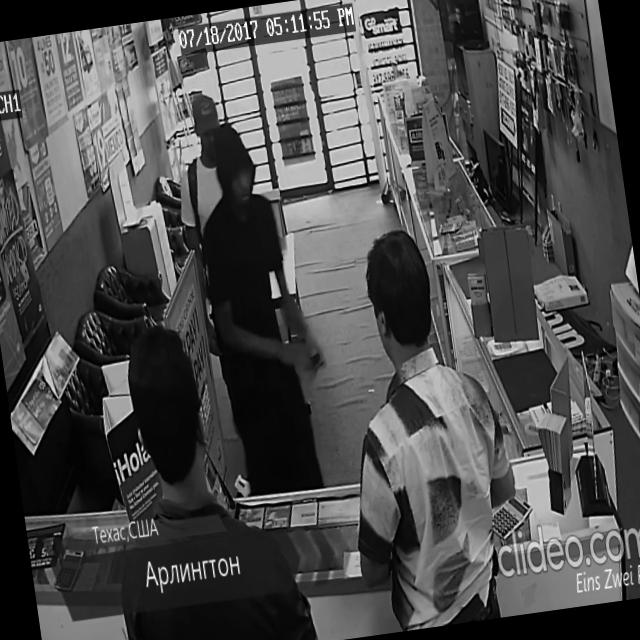gun: (298, 329, 332, 394)
person: (314, 216, 536, 636), (81, 305, 324, 640), (164, 87, 284, 499)
person with a gun: (184, 110, 345, 500)
